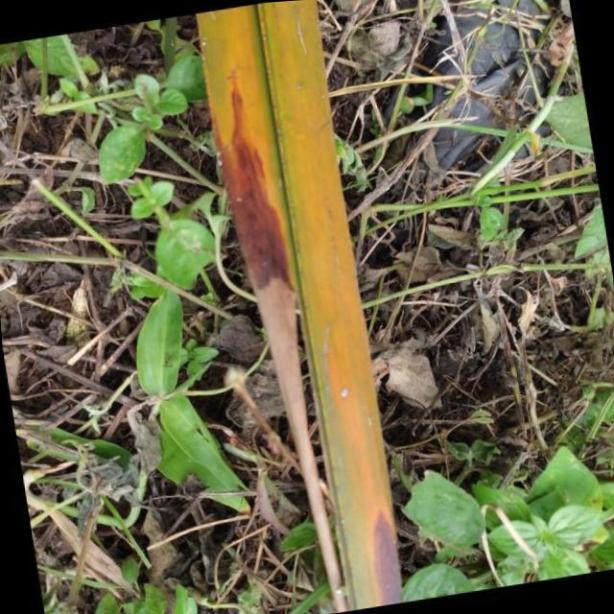Megnesium: (198, 0, 401, 612)
